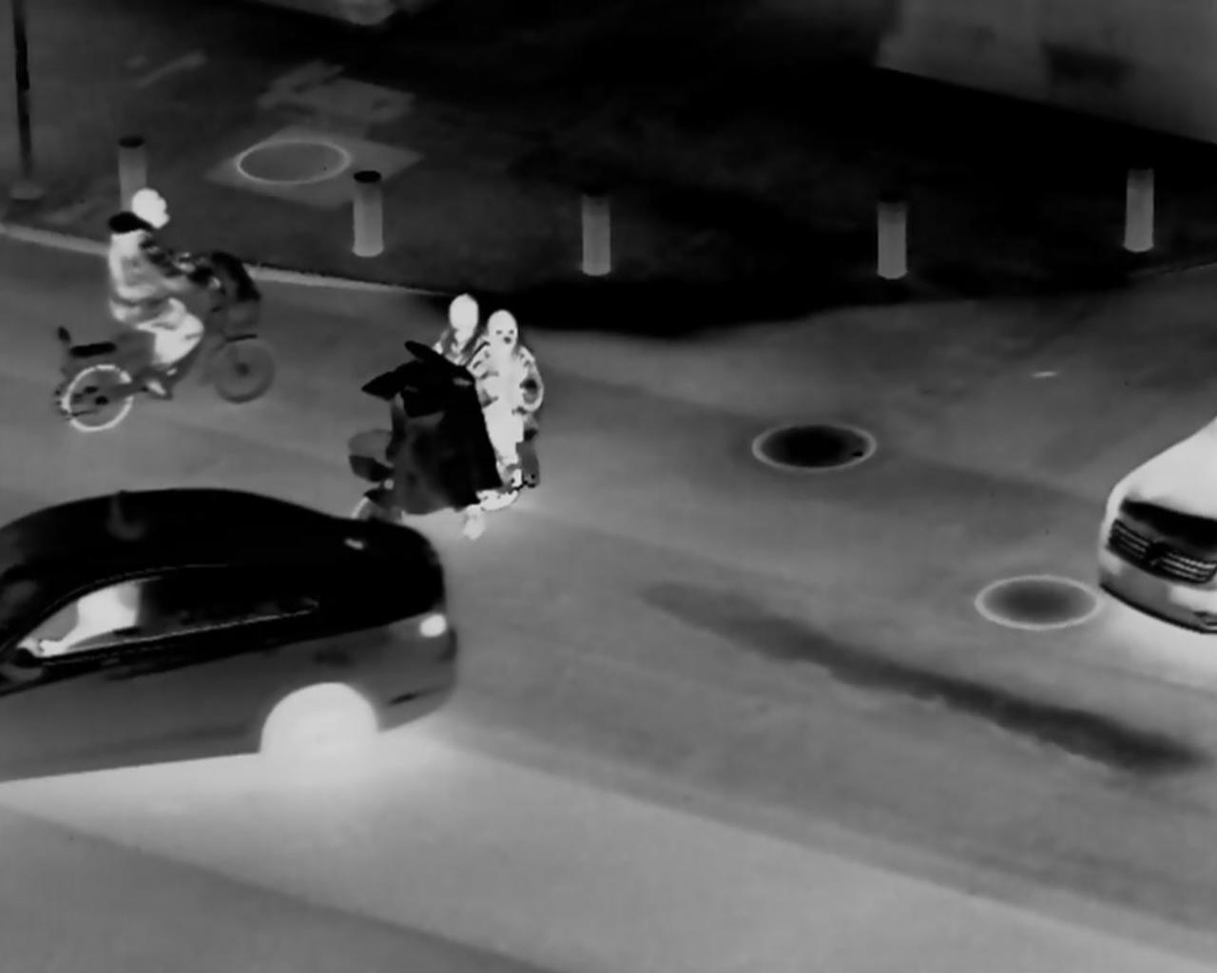person: (89, 186, 216, 390), (415, 292, 487, 538), (470, 309, 543, 507)
